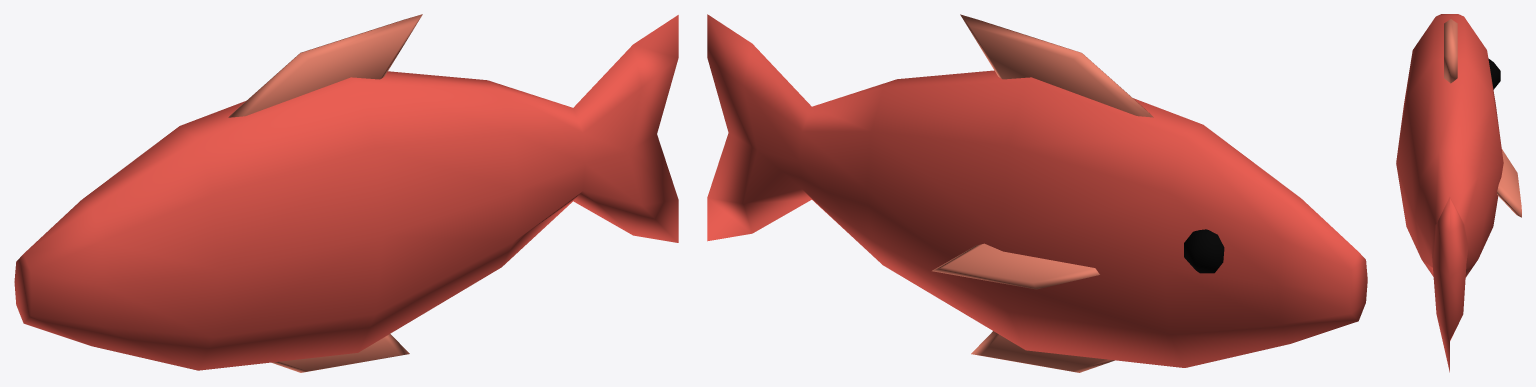
The model's file is Fish.gltf.
3 views of the same model, side by side, from view 1: azimuth 30°, elevation 25°; view 2: azimuth 150°, elevation 25°; view 3: azimuth 270°, elevation 25° (orthographic). The views are drawn at different scales.
Visible parts, largest first — view 1: Sphere, Plane, Plane.001; view 2: Sphere, Plane, Plane.002, Plane.001, Sphere.001; view 3: Sphere, Plane.002, Plane, Sphere.001.
Part boxes in pixels (x1,y1,x2,y2): Sphere: [14, 15, 678, 370]; Plane: [228, 14, 422, 117]; Plane.001: [272, 334, 409, 372]; Sphere: [707, 14, 1367, 367]; Plane: [960, 14, 1153, 117]; Plane.002: [932, 243, 1099, 289]; Plane.001: [971, 331, 1114, 372]; Sphere.001: [1184, 229, 1224, 273]; Sphere: [1396, 14, 1503, 372]; Plane.002: [1497, 149, 1521, 217]; Plane: [1444, 19, 1457, 83]; Sphere.001: [1488, 58, 1500, 89].
Bounding box in the file's own units: 5.2 × 2.57 × 1.14.
